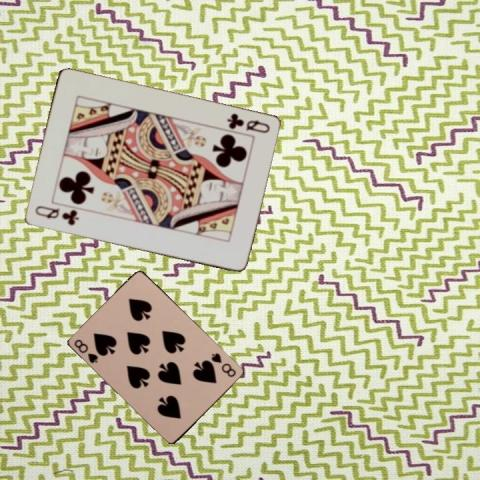8s: (209, 350, 238, 379), (71, 336, 100, 364)
Qc: (31, 203, 80, 227), (224, 111, 272, 135)
